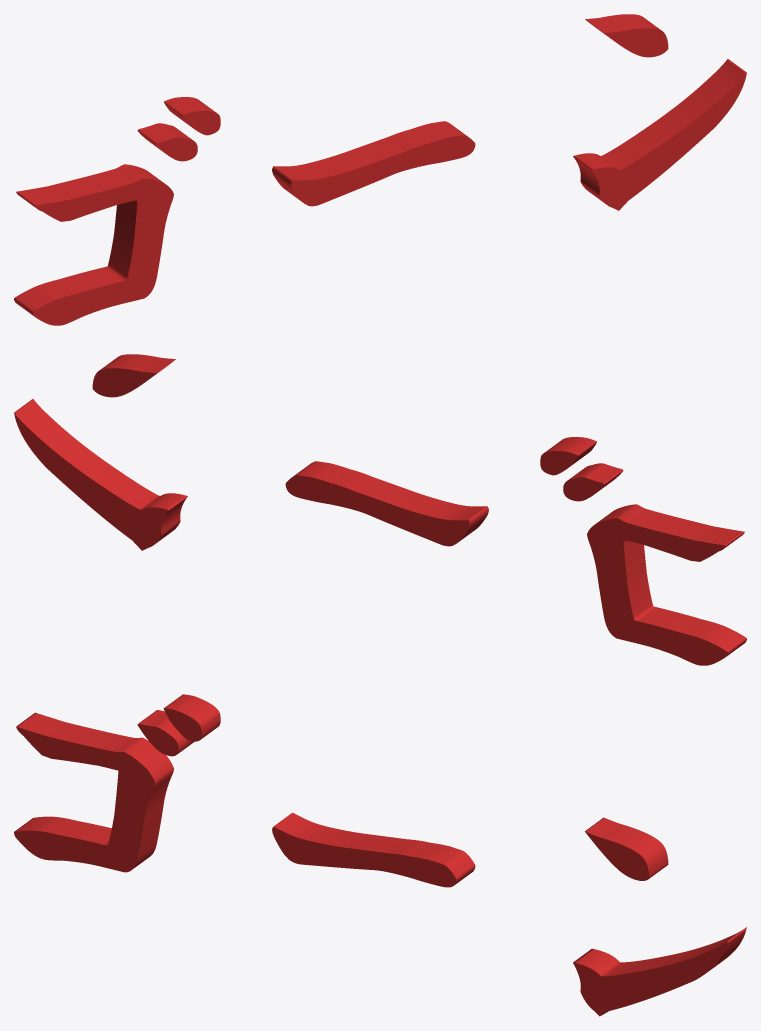
Rendered from bell.obj.
3 renders of one model, top to bottom at view 1: azimuth 30°, elevation 25°; view 2: azimuth 150°, elevation 25°; view 3: azimuth 330°, elevation 25°, orthographic.
Parts seen in each view (by area): view 1: テキスト.001; view 2: テキスト.001; view 3: テキスト.001.
Boxes of the visible parts, x1=… form: テキスト.001: x1=14, y1=14, x2=746, y2=325; テキスト.001: x1=14, y1=354, x2=746, y2=665; テキスト.001: x1=14, y1=694, x2=746, y2=1016.
Size of the model in its own units: 2.59 by 0.7031 by 0.12.
1 material, 1 textured.
